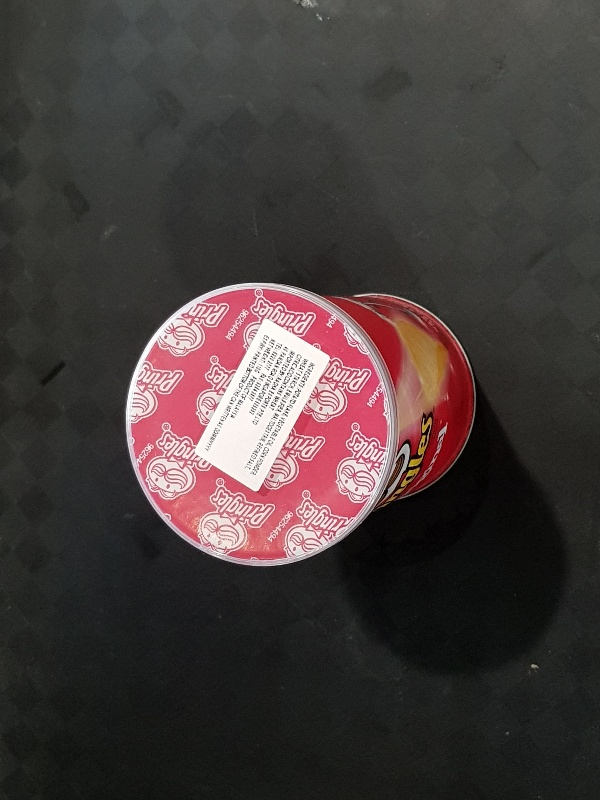Pringles Original: (123, 279, 477, 568)
